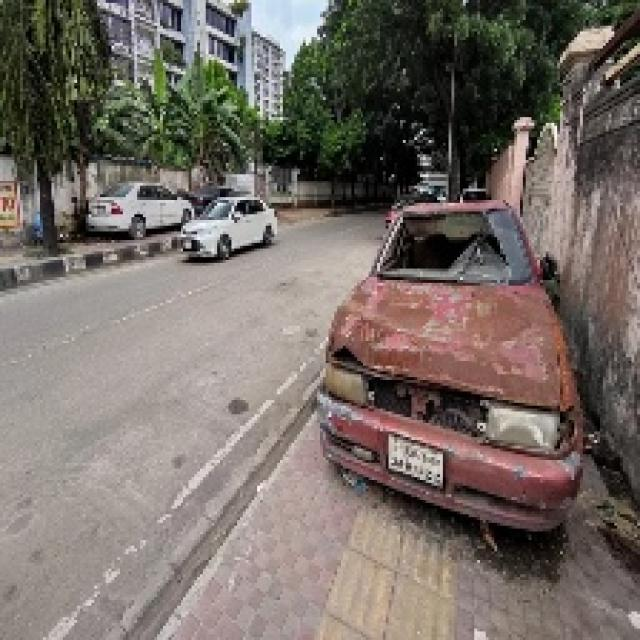car: (304, 187, 567, 485), (177, 190, 279, 268), (80, 173, 195, 240)
